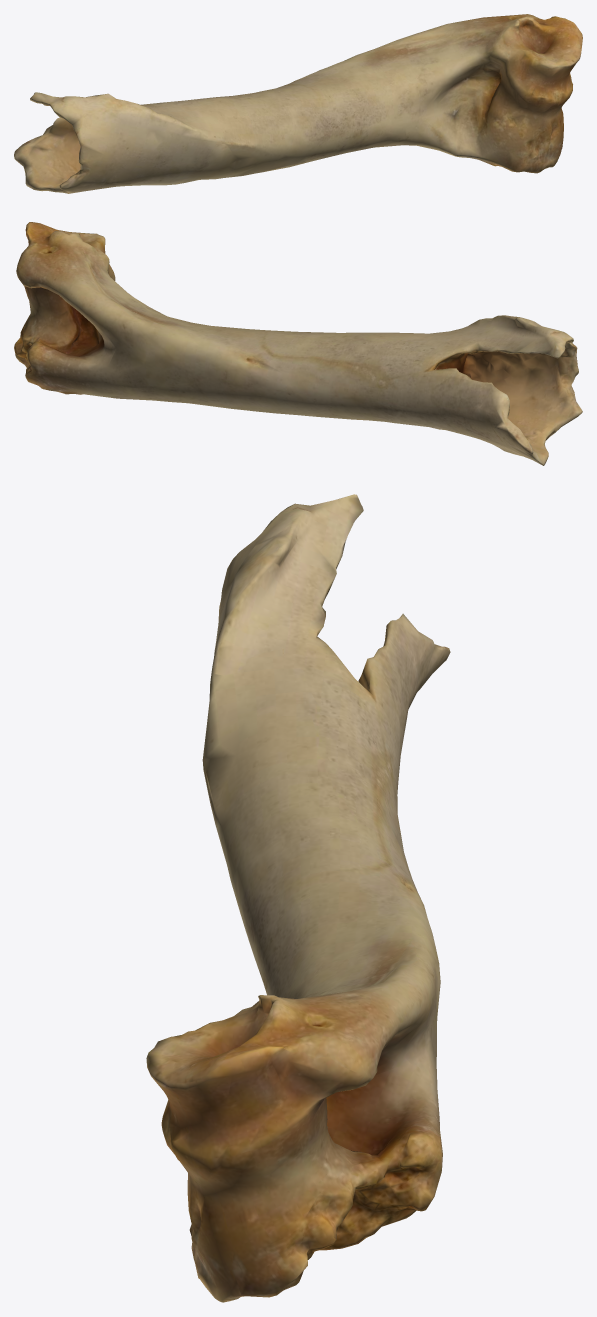
File: humerus.glb
3 renders of one model, top to bottom at view 1: azimuth 30°, elevation 25°; view 2: azimuth 150°, elevation 25°; view 3: azimuth 270°, elevation 25°, orthographic. The views are drawn at different scales.
Size of the model in its own units: 0.1661 by 0.0515 by 0.0423.
Materials: 1 (1 with a texture image).
